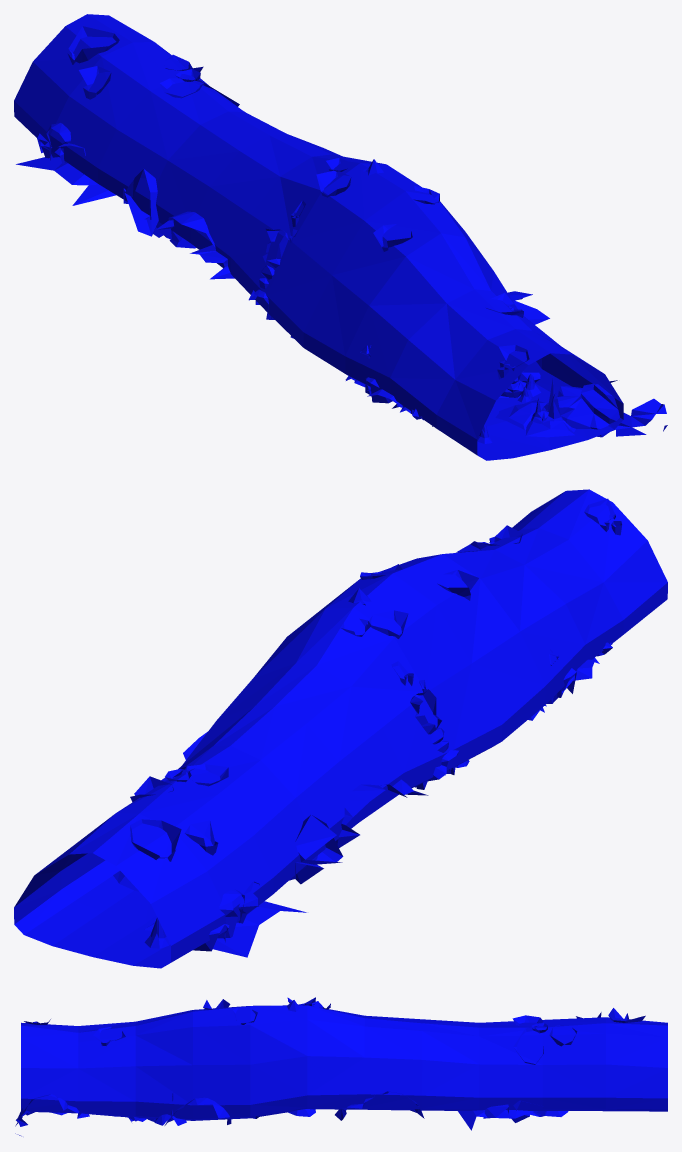
The model's file is cave_straight_collider.dae.
3 renders of one model, top to bottom at view 1: azimuth 30°, elevation 25°; view 2: azimuth 150°, elevation 25°; view 3: azimuth 270°, elevation 25°, orthographic. The views are drawn at different scales.
Parts seen in each view (by area): view 1: Cave_Straight_Collider; view 2: Cave_Straight_Collider; view 3: Cave_Straight_Collider.
Part boxes in pixels (box(x1,y1,x2,y2)): Cave_Straight_Collider: box(14, 14, 667, 460); Cave_Straight_Collider: box(14, 489, 667, 968); Cave_Straight_Collider: box(15, 997, 667, 1136).
Bounding box in the file's own units: 284 × 1011 × 191.
